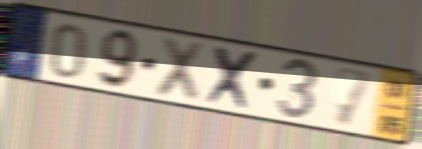0: (48, 21, 92, 81)
3: (275, 56, 320, 124)
7: (331, 64, 373, 131)
9: (95, 27, 140, 91)
X: (203, 43, 264, 115), (152, 33, 208, 106)
